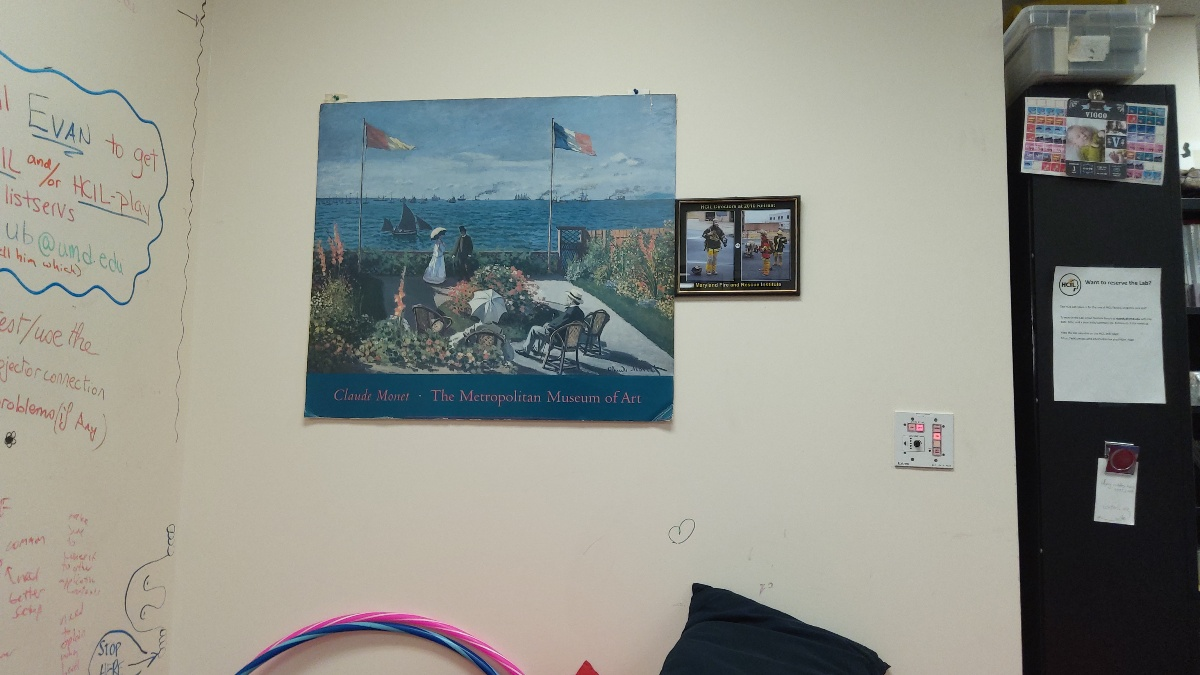poster: (300, 86, 685, 435)
